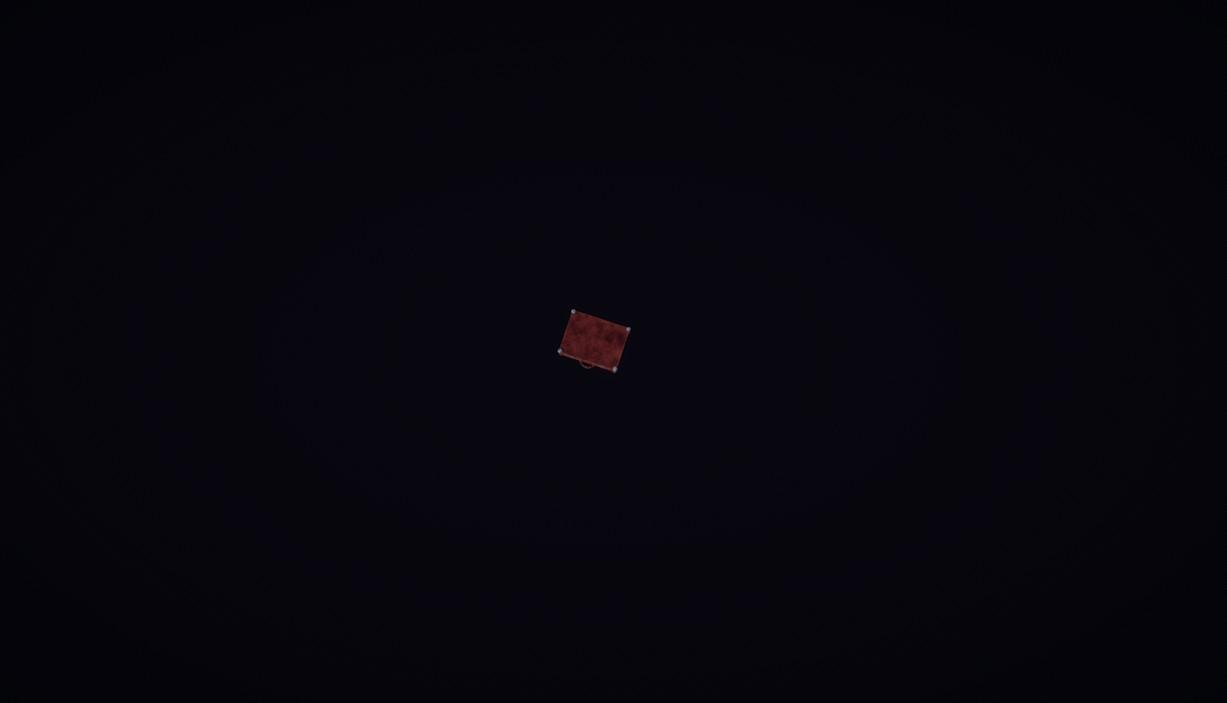Suitcase: (555, 306, 631, 374)
